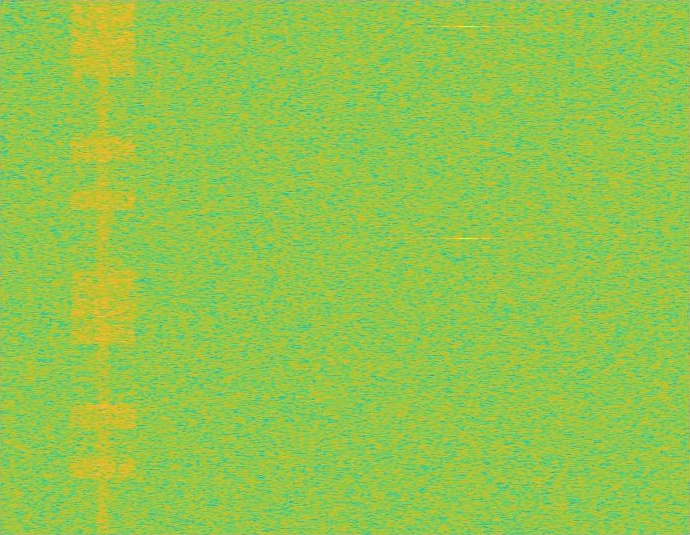DSSS: (96, 0, 111, 534)
LTE: (69, 0, 138, 534)
Radar: (460, 0, 473, 534)
